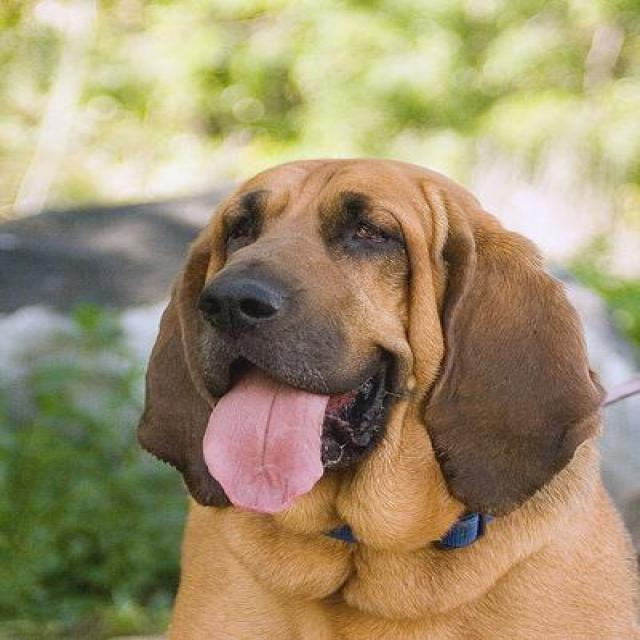happy: (84, 112, 630, 573)
